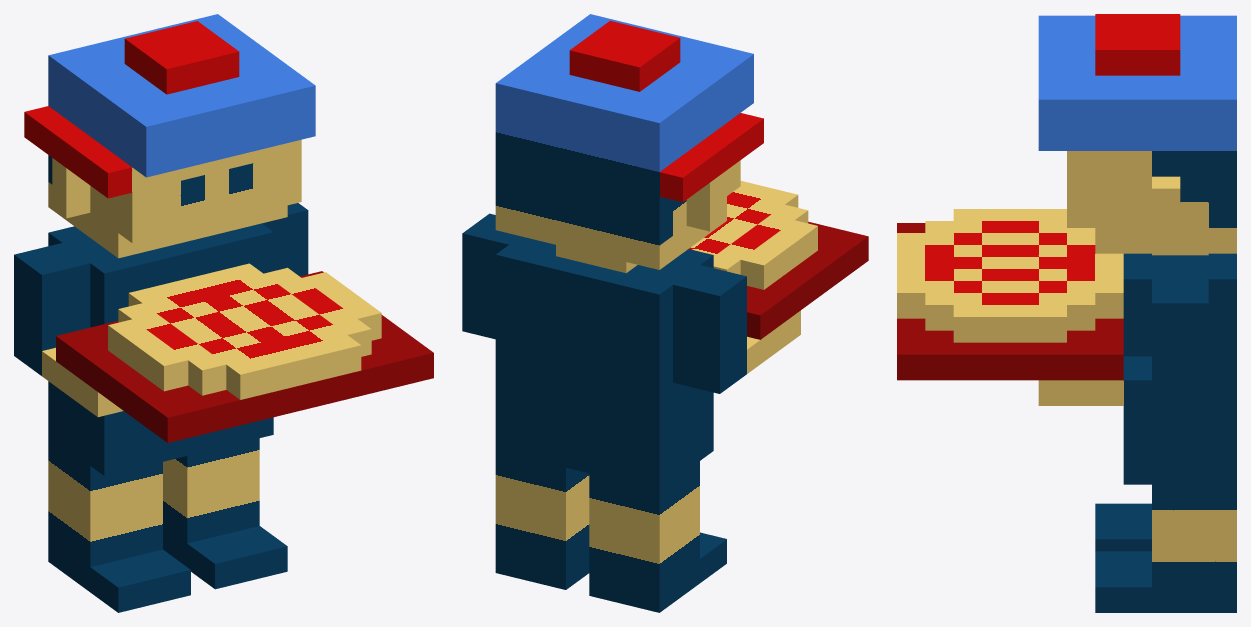
The model's file is Pizza_Man_008.dae.
3 views of the same model, side by side, from view 1: azimuth 30°, elevation 25°; view 2: azimuth 150°, elevation 25°; view 3: azimuth 270°, elevation 25° (orthographic). The views are drawn at different scales.
Parts seen in each view (by area): view 1: pizza_men_25; view 2: pizza_men_25; view 3: pizza_men_25.
Boxes of the visible parts, x1,y1,x2,y2 form: pizza_men_25: (14,14,433,612); pizza_men_25: (462,14,868,612); pizza_men_25: (897,14,1236,612).
Size of the model in its own units: 11 by 21 by 12.
1 material, 1 textured.
